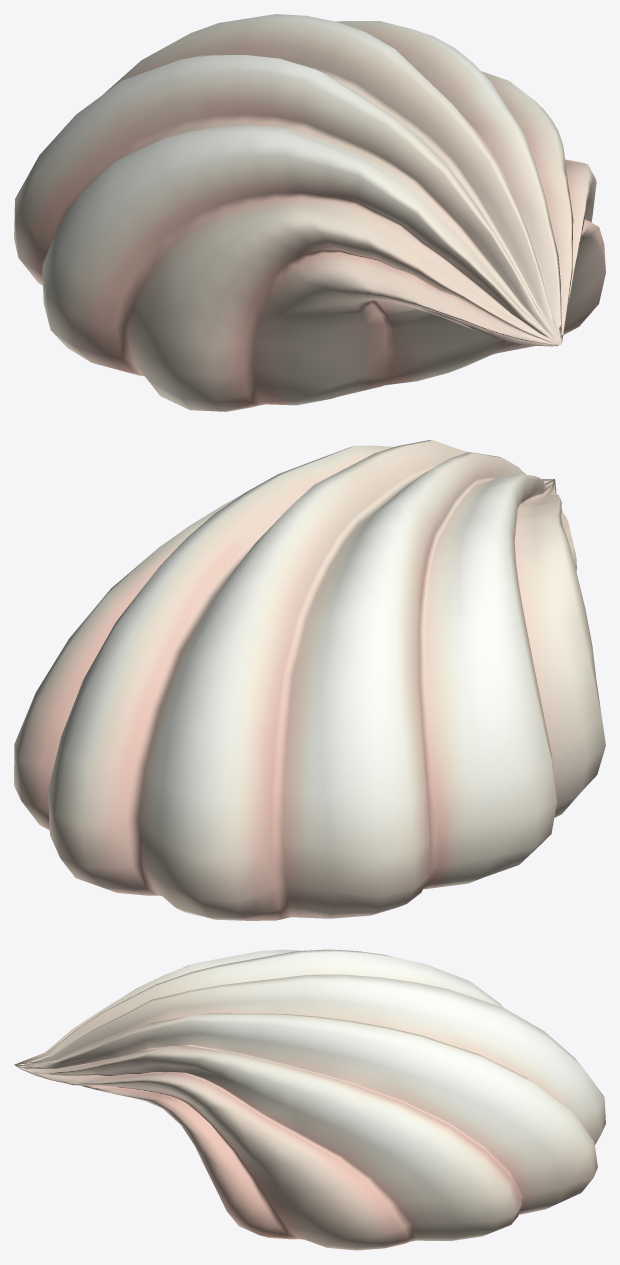
File: Whippedcream_Singleunit2.fbx
3 views of the same model, one above another, from view 1: azimuth 30°, elevation 25°; view 2: azimuth 150°, elevation 25°; view 3: azimuth 270°, elevation 25° (orthographic). The views are drawn at different scales.
Visible parts, largest first — view 1: cream_yoko; view 2: cream_yoko; view 3: cream_yoko.
Part boxes in pixels (bbox=[...]): cream_yoko: bbox=[14, 14, 605, 411]; cream_yoko: bbox=[14, 440, 605, 920]; cream_yoko: bbox=[14, 949, 605, 1250].
Bounding box in the file's own units: 125 × 74.98 × 181.
1 material, 1 textured.
